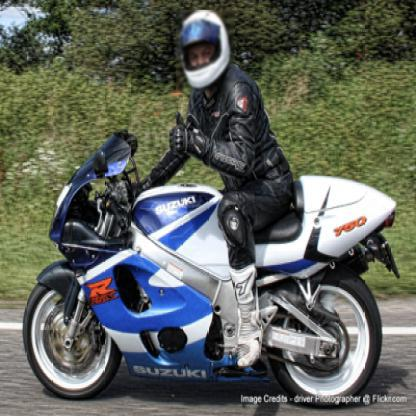Helmet: (174, 5, 235, 92)
